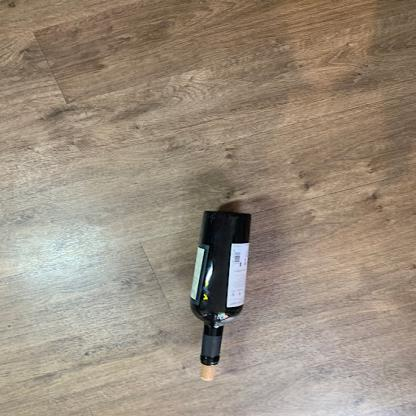trash: (194, 211, 252, 367)
